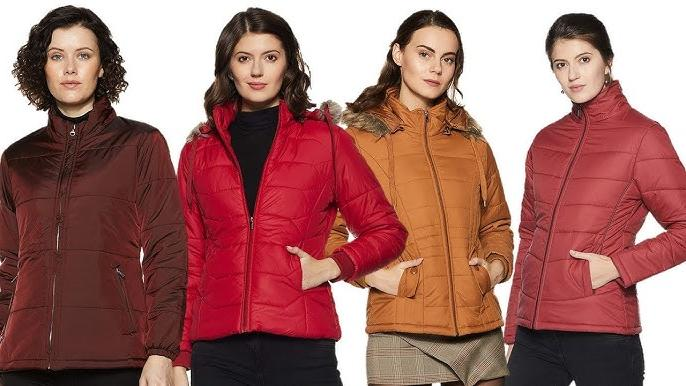coat: (170, 101, 410, 370), (0, 95, 189, 373), (324, 85, 516, 336), (502, 79, 686, 335)
skirt: (364, 329, 510, 383)
trousers: (189, 330, 343, 386), (508, 326, 647, 386)
